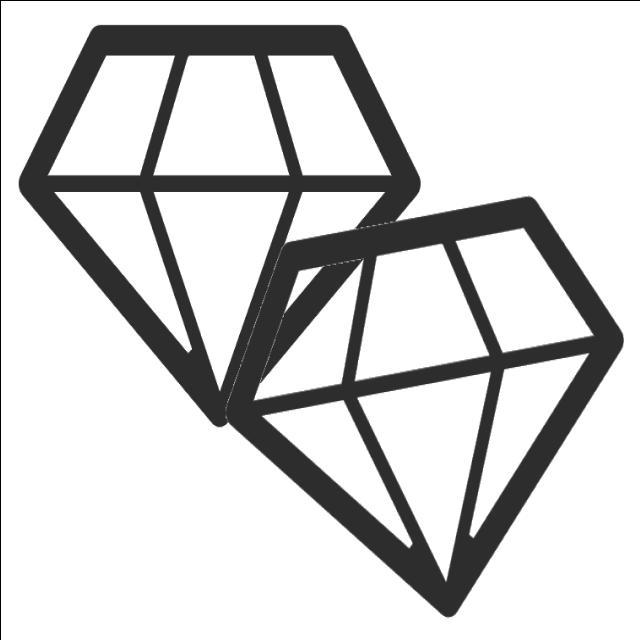diamond: (215, 180, 638, 631), (12, 16, 436, 433)
